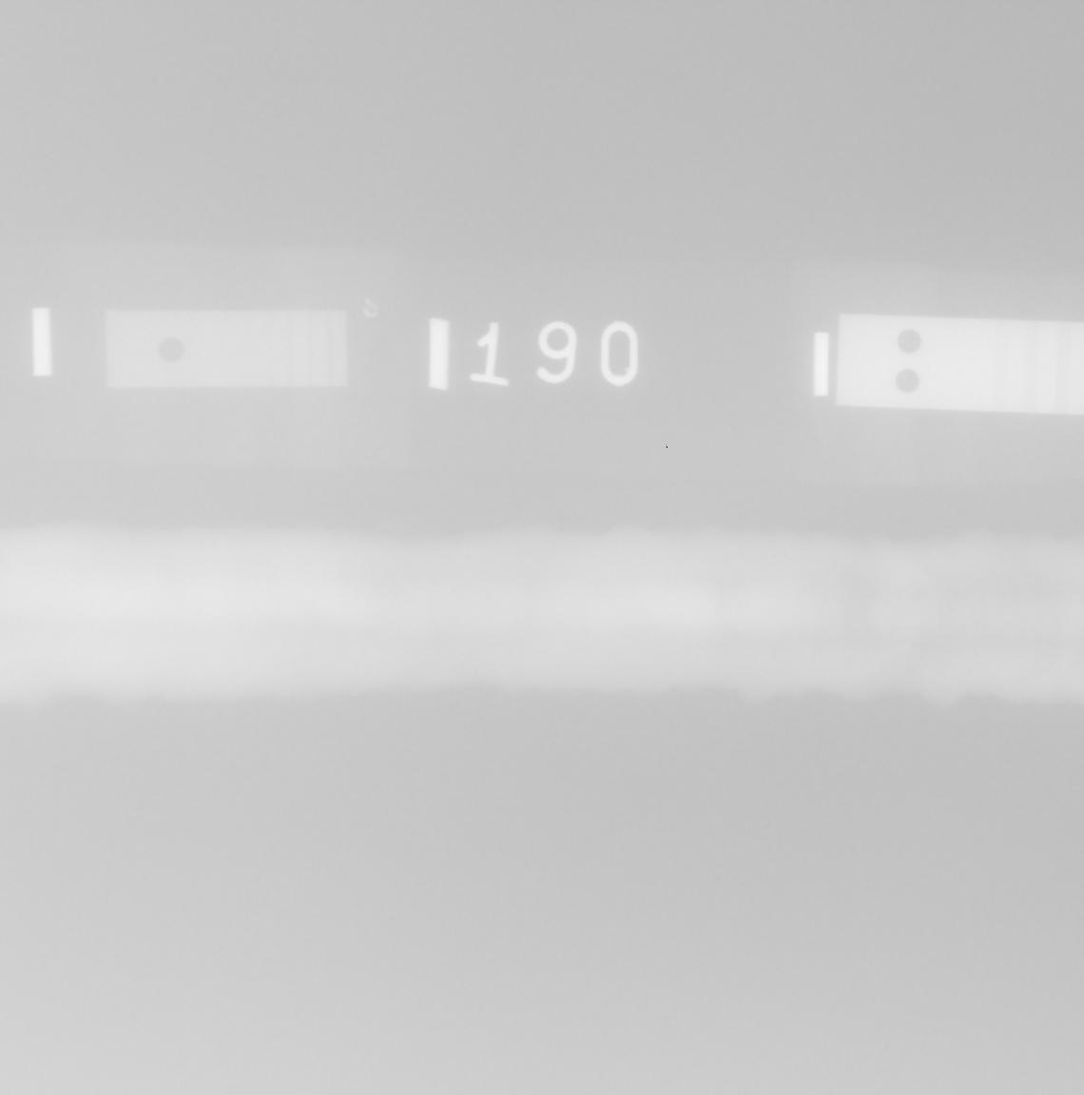Pore/Porosity: (910, 644, 915, 648)
Reference Standard 1: (105, 311, 347, 387)
